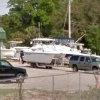Boat: (15, 36, 62, 76)
